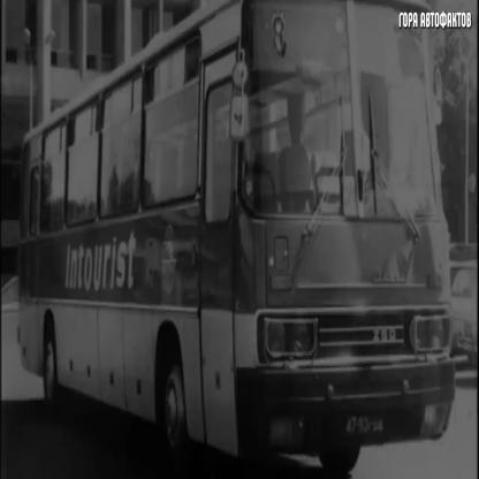bus: (16, 0, 458, 462)
